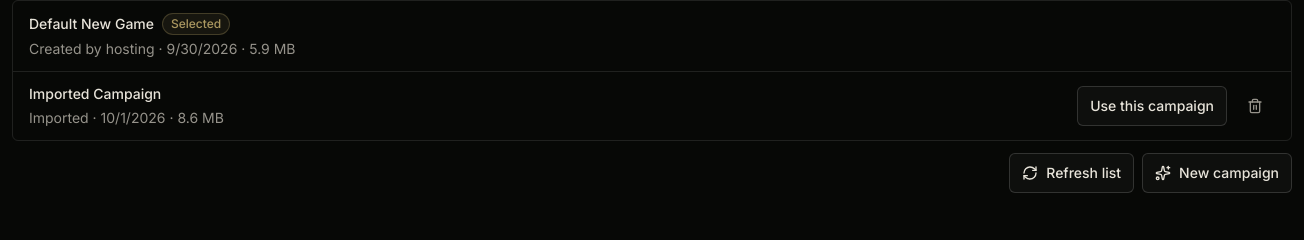
Test: selects an imported campaign with a durable request bound to the listed server revision
This screenshot has width=1304, height=240.
Step 1. Click the button "Use this campaign" → {"x": 1152, "y": 106}, box [1077,86,1227,126]
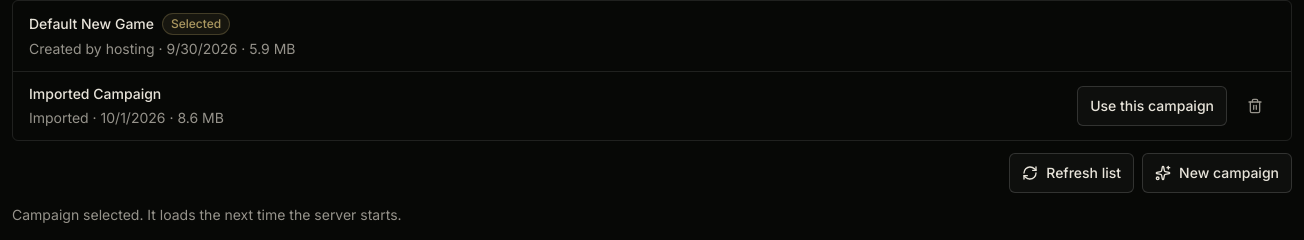
Now the text "Campaign selected" is shown, box [12,206,402,223]
